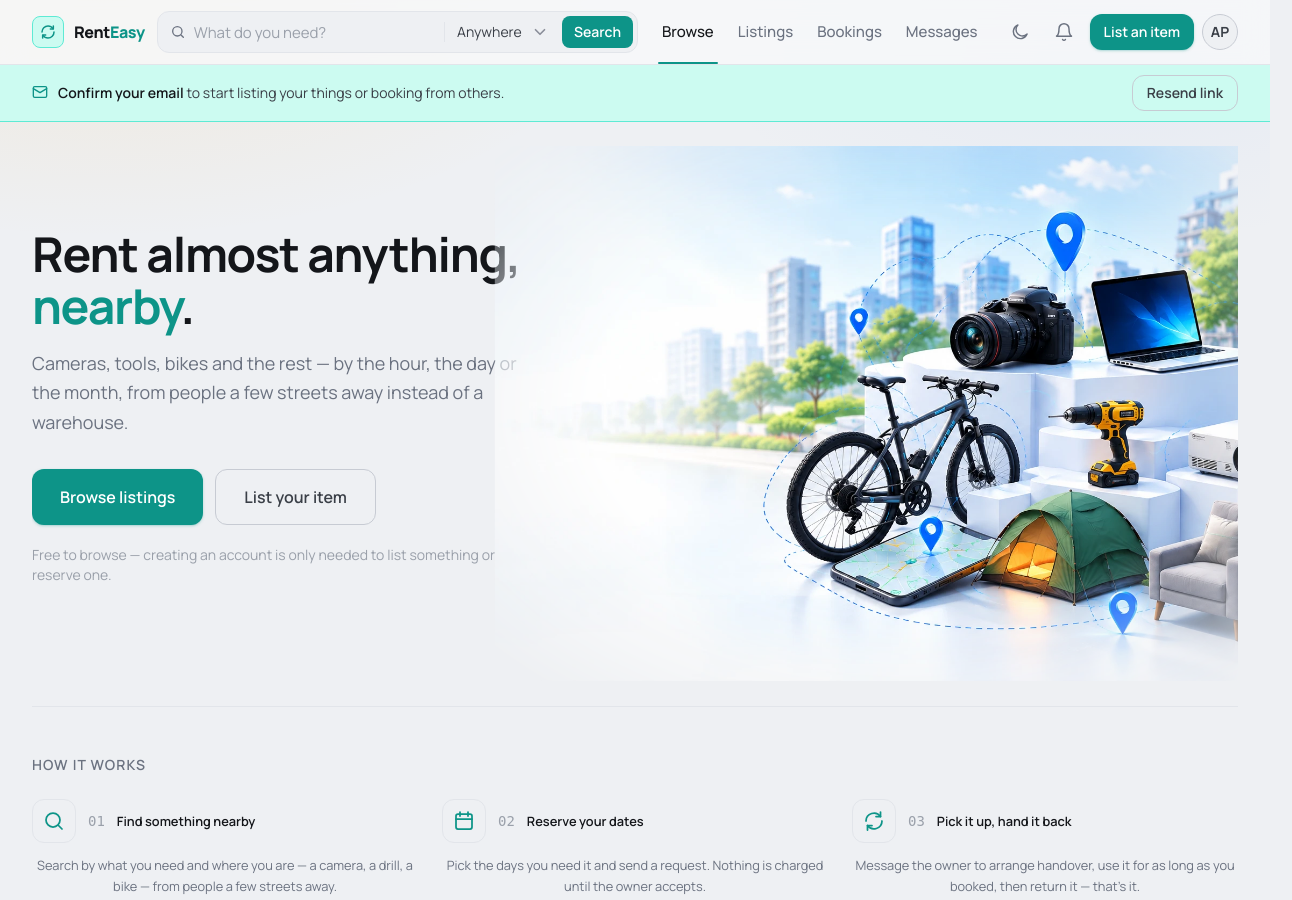
Test case: the verification gate › reports the same thing after a resend, whatever the server did
Click the button "Resend link" at (1185, 93), box [1132, 75, 1238, 111]
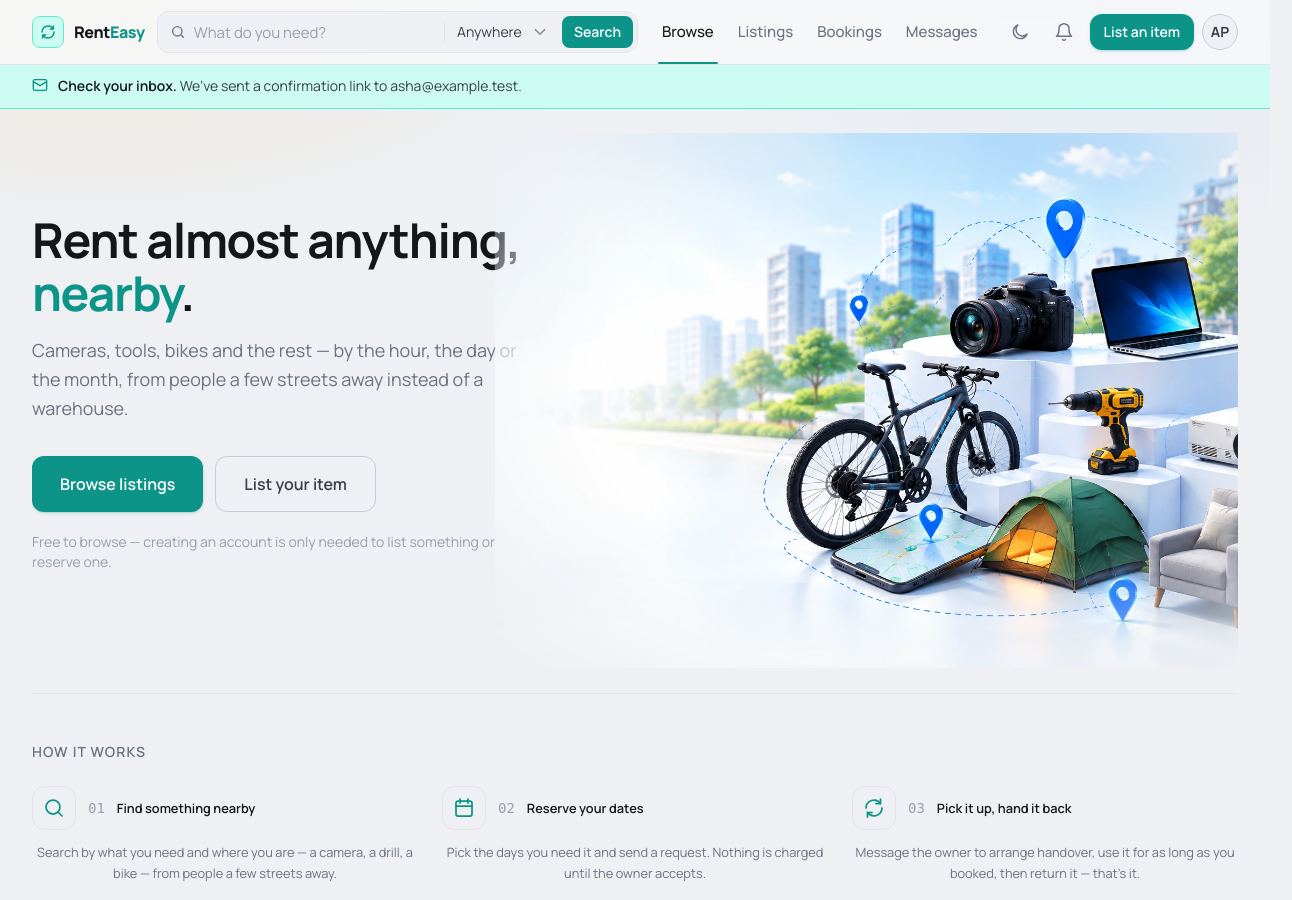
expect the text "Check your inbox." is shown: met, box [58, 76, 177, 95]
